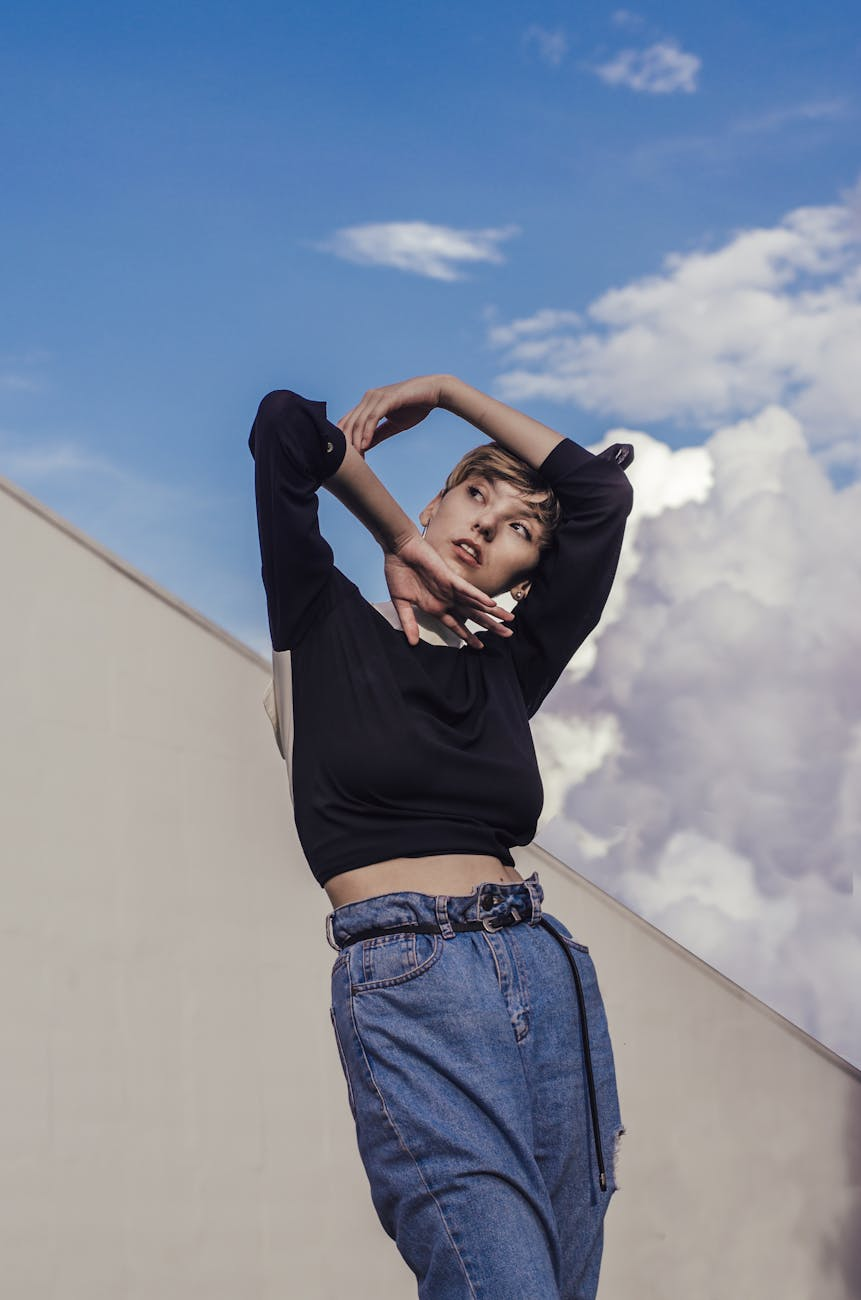crop_top: (261, 590, 569, 877)
